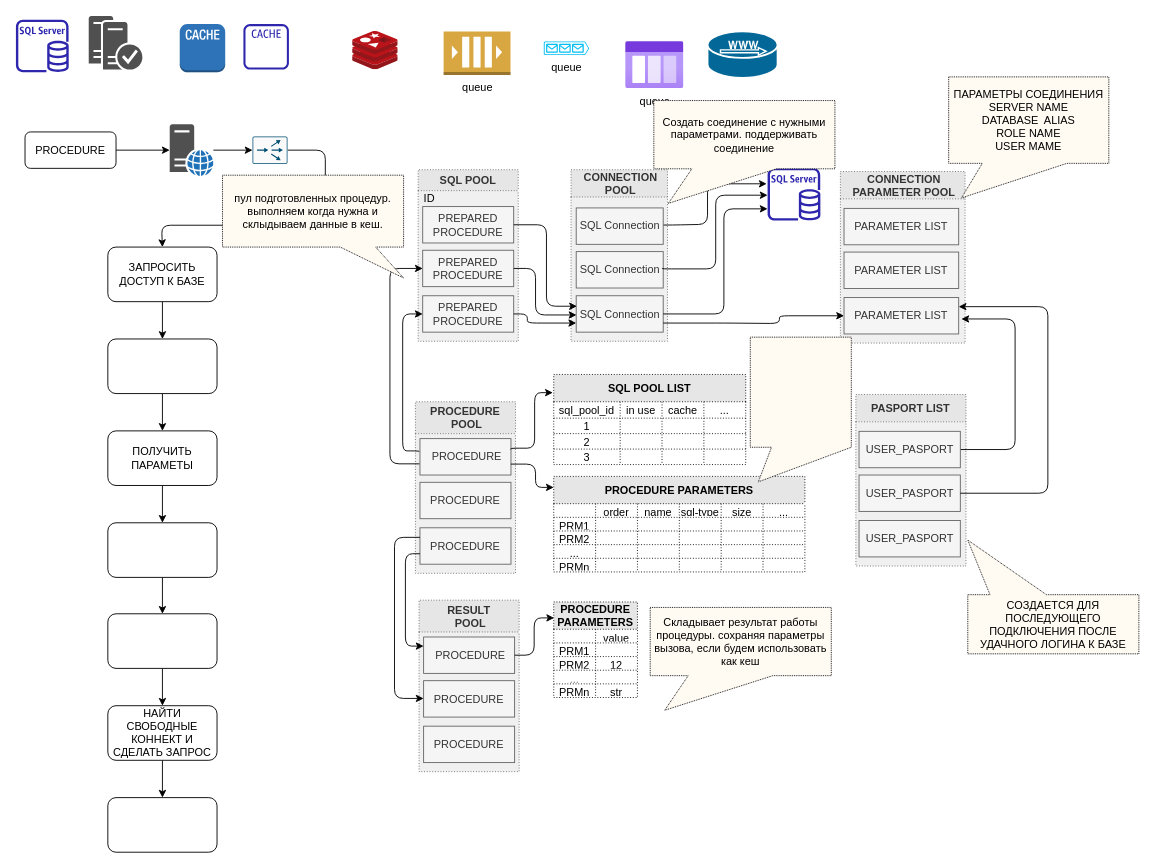
This 1155x868 diagram has some shape labels left out. The shapes that lost their labels are listed below. From the top down, each one's centre as x and y in pixels, then its label:
pixel 115 42: pool
pixel 375 50: redis
pixel 269 150: router
pixel 162 366: ПОЛУЧИТЬ ПАСПОРТ КОННЕКТА
pixel 800 409: получить из базы список параметров либо это prepare либо специальная процедура.
pixel 162 549: ПЕРЕДАТЬ КЛИЕНТУ СПИСОК ПАРАМЕТОВ
pixel 162 640: ПОЛУЧИТЬ УСТАНОВЛЕННЫЕ ПАРАМЕТРЫ
pixel 162 824: Получить id пула результатов для получения ответа.
